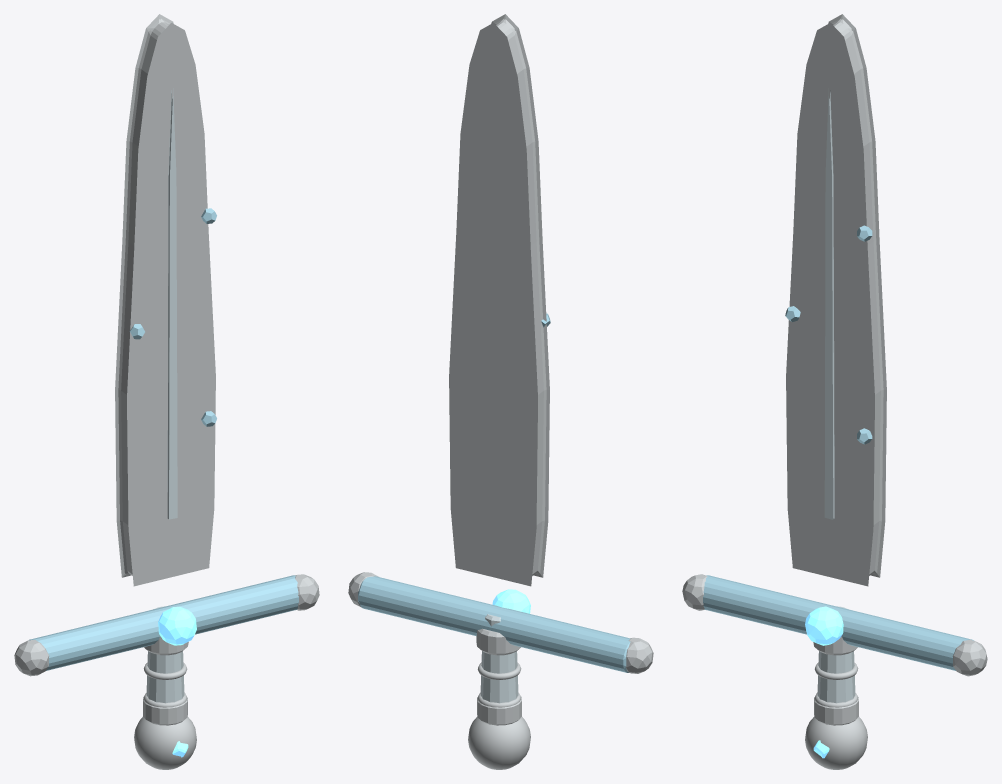
Rendered from warrior-sword-03-frostward.glb.
3 views of the same model, side by side, from view 1: azimuth 30°, elevation 25°; view 2: azimuth 150°, elevation 25°; view 3: azimuth 330°, elevation 25° (orthographic).
Visible parts, largest first — view 1: warrior-sword-03-frostward_ForgedBlade, warrior-sword-03-frostward_Crossguard, warrior-sword-03-frostward_ColoredFuller, warrior-sword-03-frostward_Pommel, warrior-sword-03-frostward_LeatherGrip, warrior-sword-03-frostward_GuardGem, warrior-sword-03-frostward_GuardEnd_-1, warrior-sword-03-frostward_LowerFerrule, warrior-sword-03-frostward_GuardEnd_1; view 2: warrior-sword-03-frostward_ForgedBlade, warrior-sword-03-frostward_Crossguard, warrior-sword-03-frostward_Pommel, warrior-sword-03-frostward_LeatherGrip, warrior-sword-03-frostward_LowerFerrule, warrior-sword-03-frostward_GuardEnd_-1, warrior-sword-03-frostward_UpperFerrule, warrior-sword-03-frostward_GuardGem; view 3: warrior-sword-03-frostward_ForgedBlade, warrior-sword-03-frostward_Crossguard, warrior-sword-03-frostward_ColoredFuller, warrior-sword-03-frostward_Pommel, warrior-sword-03-frostward_LeatherGrip, warrior-sword-03-frostward_GuardGem, warrior-sword-03-frostward_GuardEnd_1, warrior-sword-03-frostward_LowerFerrule, warrior-sword-03-frostward_GuardEnd_-1.
Boxes of the visible parts, x1,y1,x2,y2 form: warrior-sword-03-frostward_ForgedBlade: (115, 14, 215, 586); warrior-sword-03-frostward_Crossguard: (29, 575, 298, 670); warrior-sword-03-frostward_ColoredFuller: (167, 88, 177, 519); warrior-sword-03-frostward_Pommel: (134, 717, 196, 769); warrior-sword-03-frostward_LeatherGrip: (146, 606, 184, 703); warrior-sword-03-frostward_GuardGem: (158, 606, 196, 645); warrior-sword-03-frostward_GuardEnd_-1: (14, 640, 49, 676); warrior-sword-03-frostward_LowerFerrule: (143, 697, 187, 725); warrior-sword-03-frostward_GuardEnd_1: (295, 574, 319, 610); warrior-sword-03-frostward_ForgedBlade: (449, 14, 549, 586); warrior-sword-03-frostward_Crossguard: (358, 576, 630, 672); warrior-sword-03-frostward_Pommel: (468, 717, 530, 769); warrior-sword-03-frostward_LeatherGrip: (480, 614, 518, 703); warrior-sword-03-frostward_LowerFerrule: (477, 696, 521, 725); warrior-sword-03-frostward_GuardEnd_-1: (626, 637, 653, 673); warrior-sword-03-frostward_UpperFerrule: (476, 628, 520, 655); warrior-sword-03-frostward_GuardGem: (492, 589, 530, 613); warrior-sword-03-frostward_ForgedBlade: (786, 14, 886, 586); warrior-sword-03-frostward_Crossguard: (703, 575, 974, 670); warrior-sword-03-frostward_ColoredFuller: (824, 88, 834, 519); warrior-sword-03-frostward_Pommel: (805, 717, 867, 769); warrior-sword-03-frostward_LeatherGrip: (817, 606, 855, 703); warrior-sword-03-frostward_GuardGem: (805, 606, 843, 645); warrior-sword-03-frostward_GuardEnd_1: (952, 639, 987, 676); warrior-sword-03-frostward_LowerFerrule: (814, 697, 858, 725); warrior-sword-03-frostward_GuardEnd_-1: (682, 574, 707, 610).
Bounding box in the file's own units: 0.7015 × 1.67 × 0.15.
